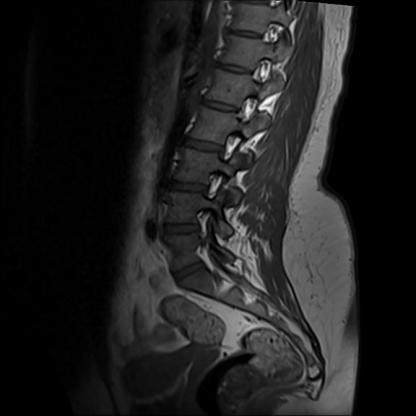Degenerative Disc Diseaserotation: (160, 219, 210, 240)
